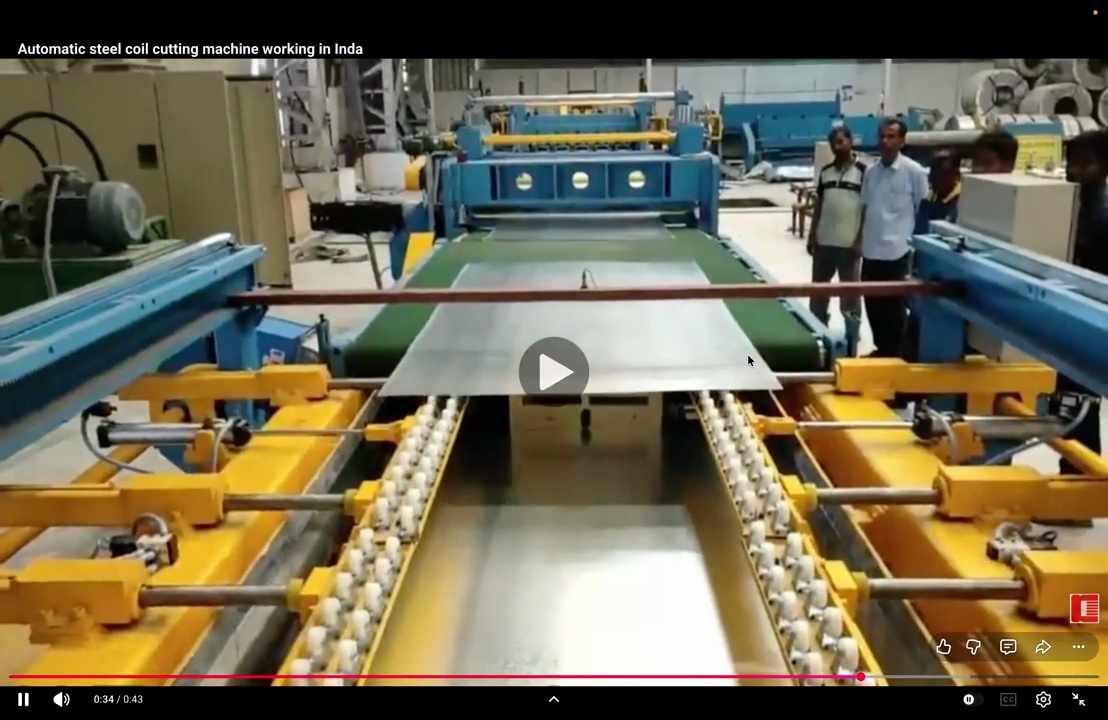steel plate: (380, 301, 779, 396), (487, 217, 672, 241)
